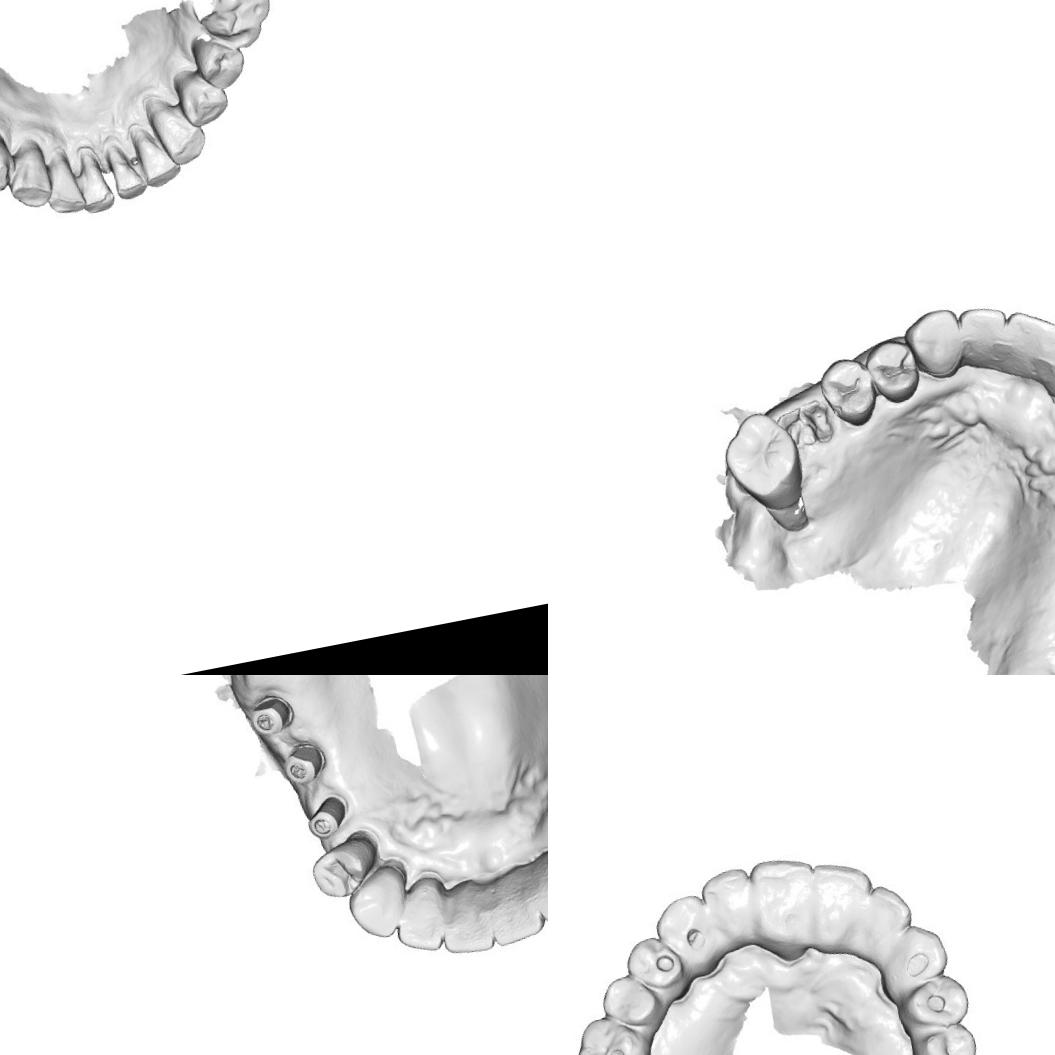canine: (870, 917, 956, 1000), (648, 888, 720, 979), (900, 302, 969, 387), (342, 863, 414, 944), (147, 95, 210, 173), (0, 143, 56, 215)
implant: (298, 790, 353, 842), (246, 694, 296, 740), (282, 739, 328, 787)
incisor: (741, 849, 827, 951), (800, 852, 884, 940), (694, 864, 762, 954), (842, 880, 918, 958), (483, 880, 548, 948), (388, 892, 448, 959), (956, 294, 1010, 364), (436, 897, 496, 960), (1000, 307, 1055, 370), (68, 147, 114, 217), (40, 152, 86, 222), (132, 125, 178, 190), (102, 146, 144, 205), (531, 858, 548, 924)
molar: (710, 404, 812, 517), (198, 0, 282, 57), (564, 1006, 656, 1055)
premolar: (816, 351, 884, 436), (890, 970, 972, 1036), (618, 930, 690, 1002), (307, 832, 380, 900), (862, 328, 924, 408), (596, 968, 662, 1032), (195, 34, 247, 92), (178, 70, 230, 128), (907, 1020, 983, 1055), (0, 132, 23, 199)
